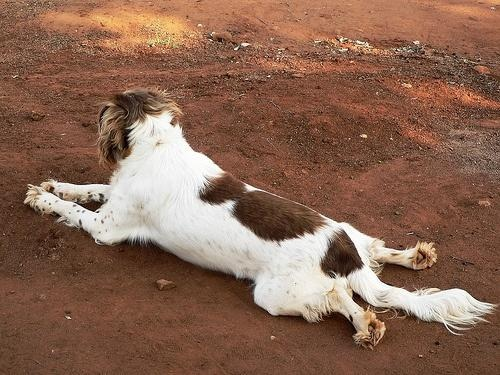dog: (26, 88, 498, 351)
